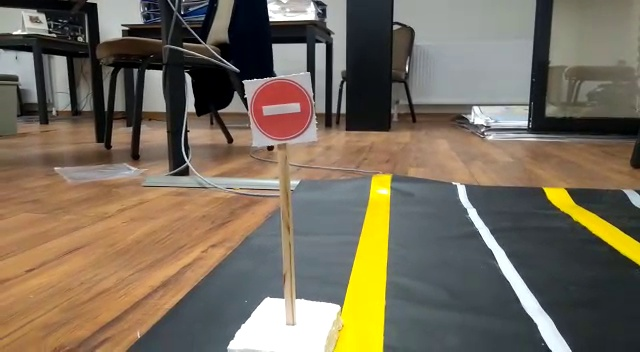girisi_olmayan_yol: (247, 76, 320, 142)
